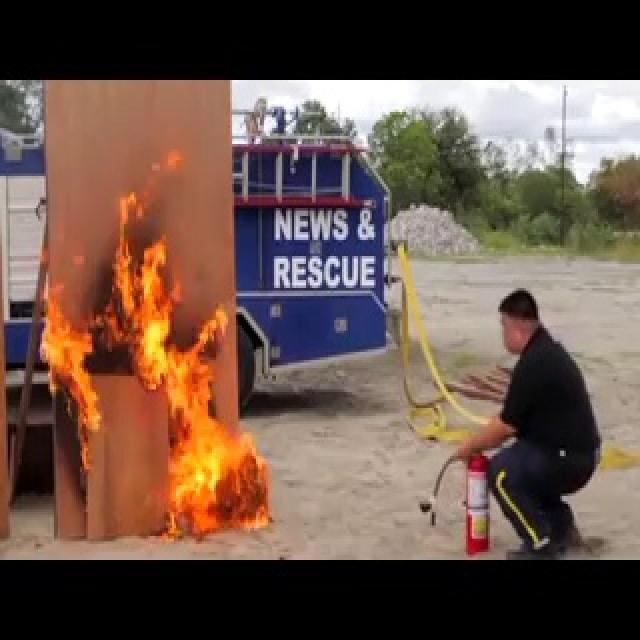fire: (6, 149, 280, 544)
